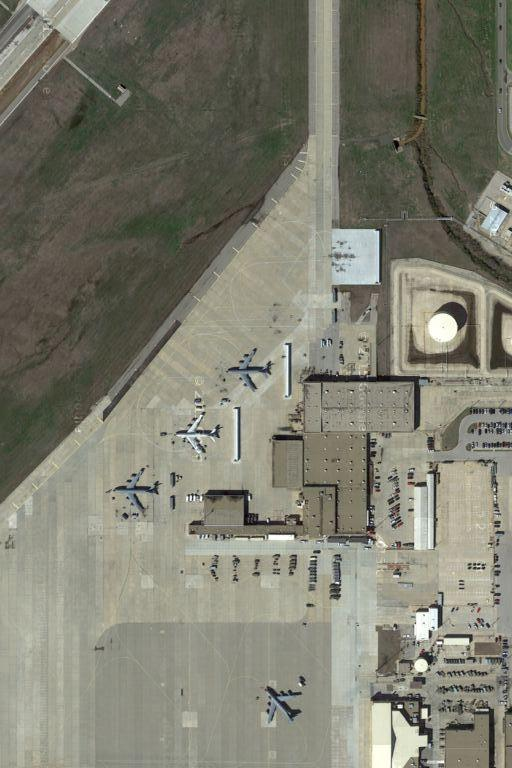E-8: (172, 413, 221, 460)
KC-135: (222, 345, 275, 394), (113, 466, 163, 514), (262, 681, 302, 727)
